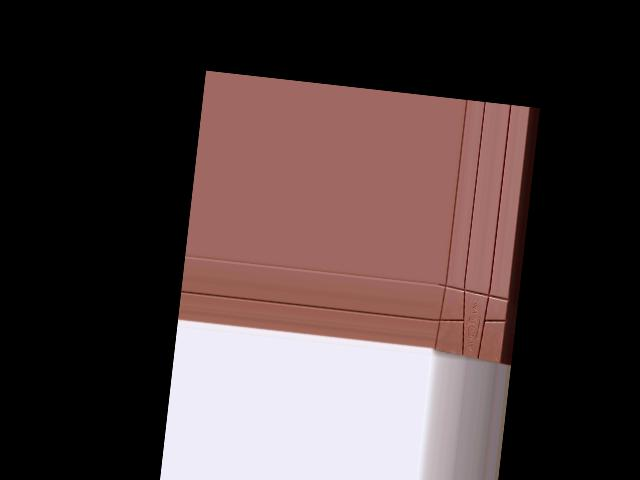chocolate: (430, 279, 513, 365)
